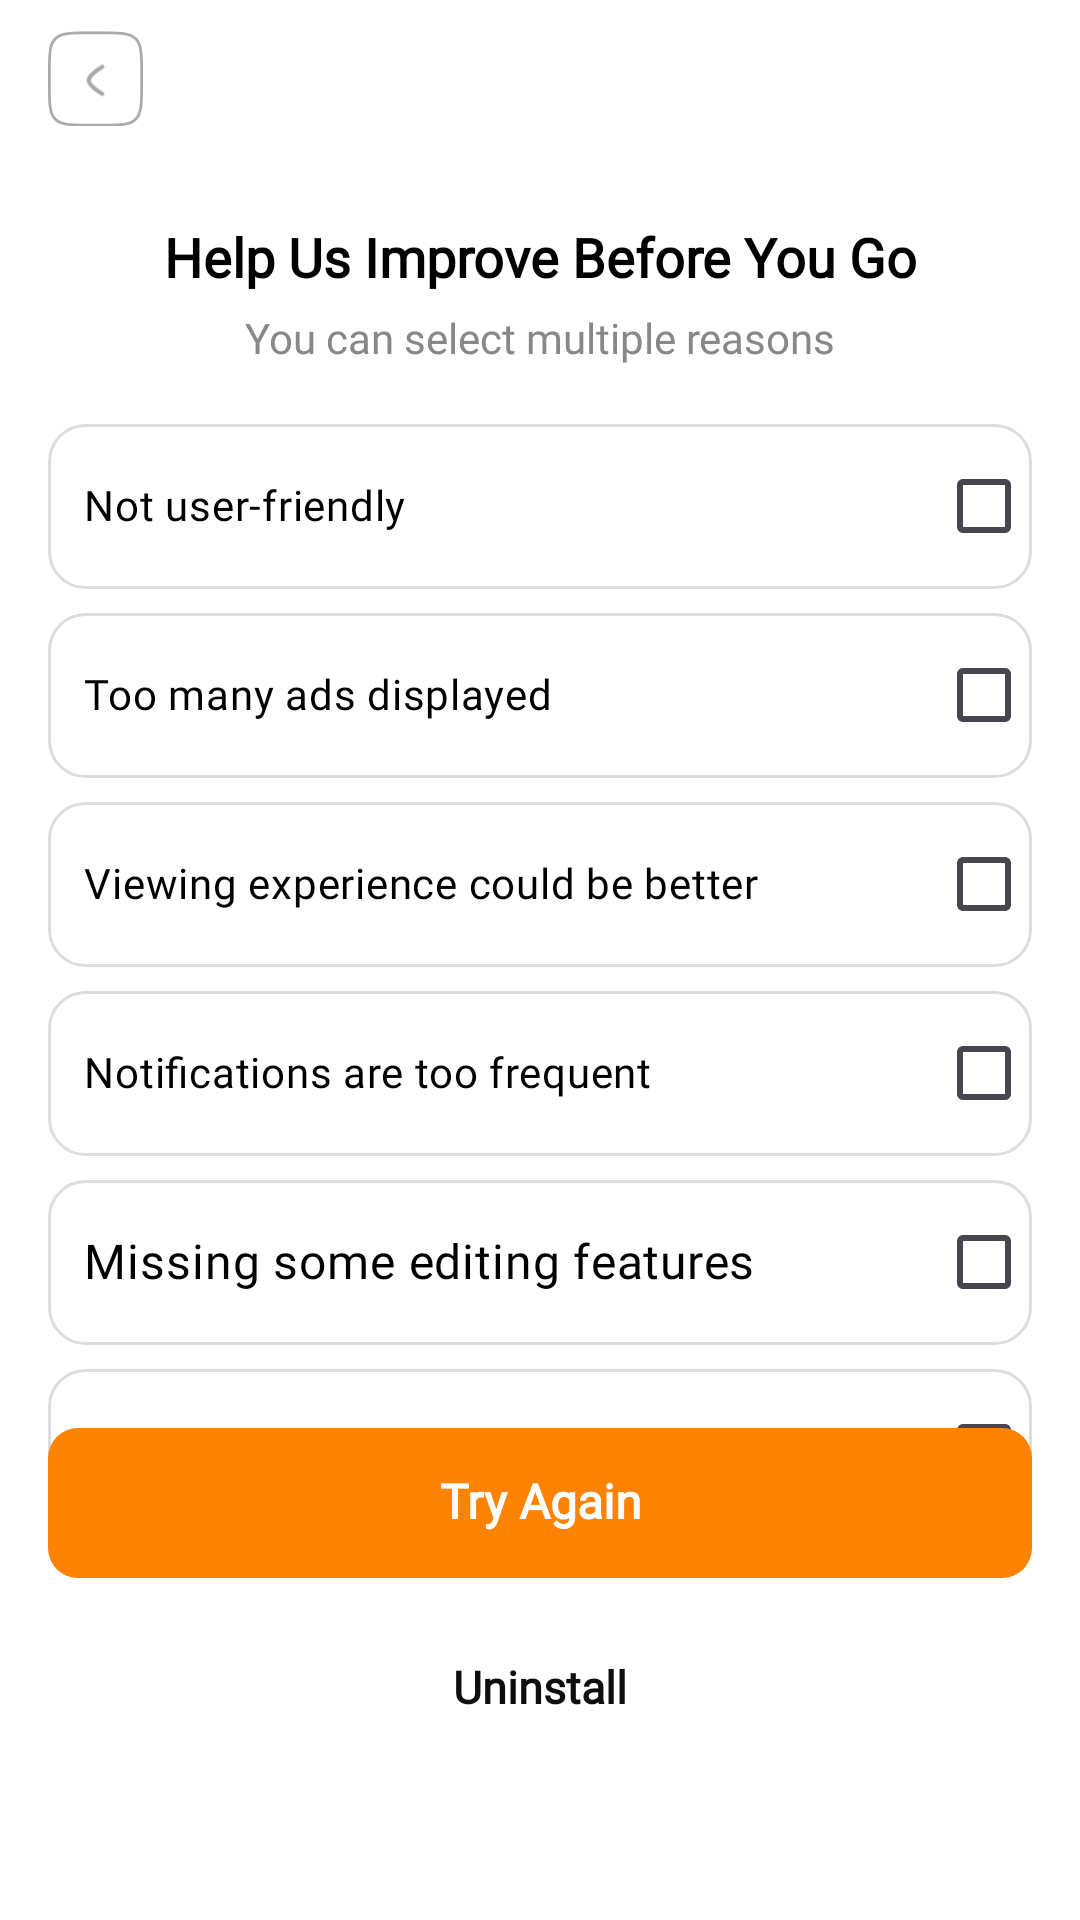

Icon click points for this 1080px x 1920px phone screenshot, format (x=x, y=y):
back: (x=95, y=78)
